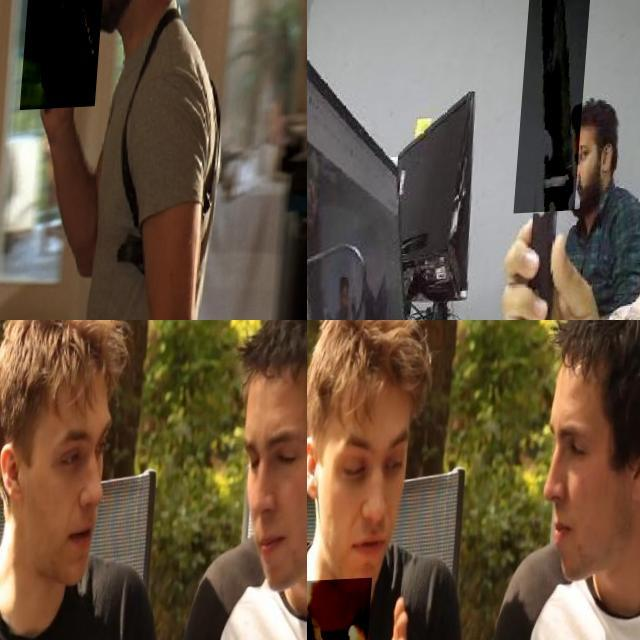-: (519, 0, 597, 218), (307, 579, 376, 640)
gun-knife-thesis - v11 Yolov5 augmented: (25, 0, 111, 113)
